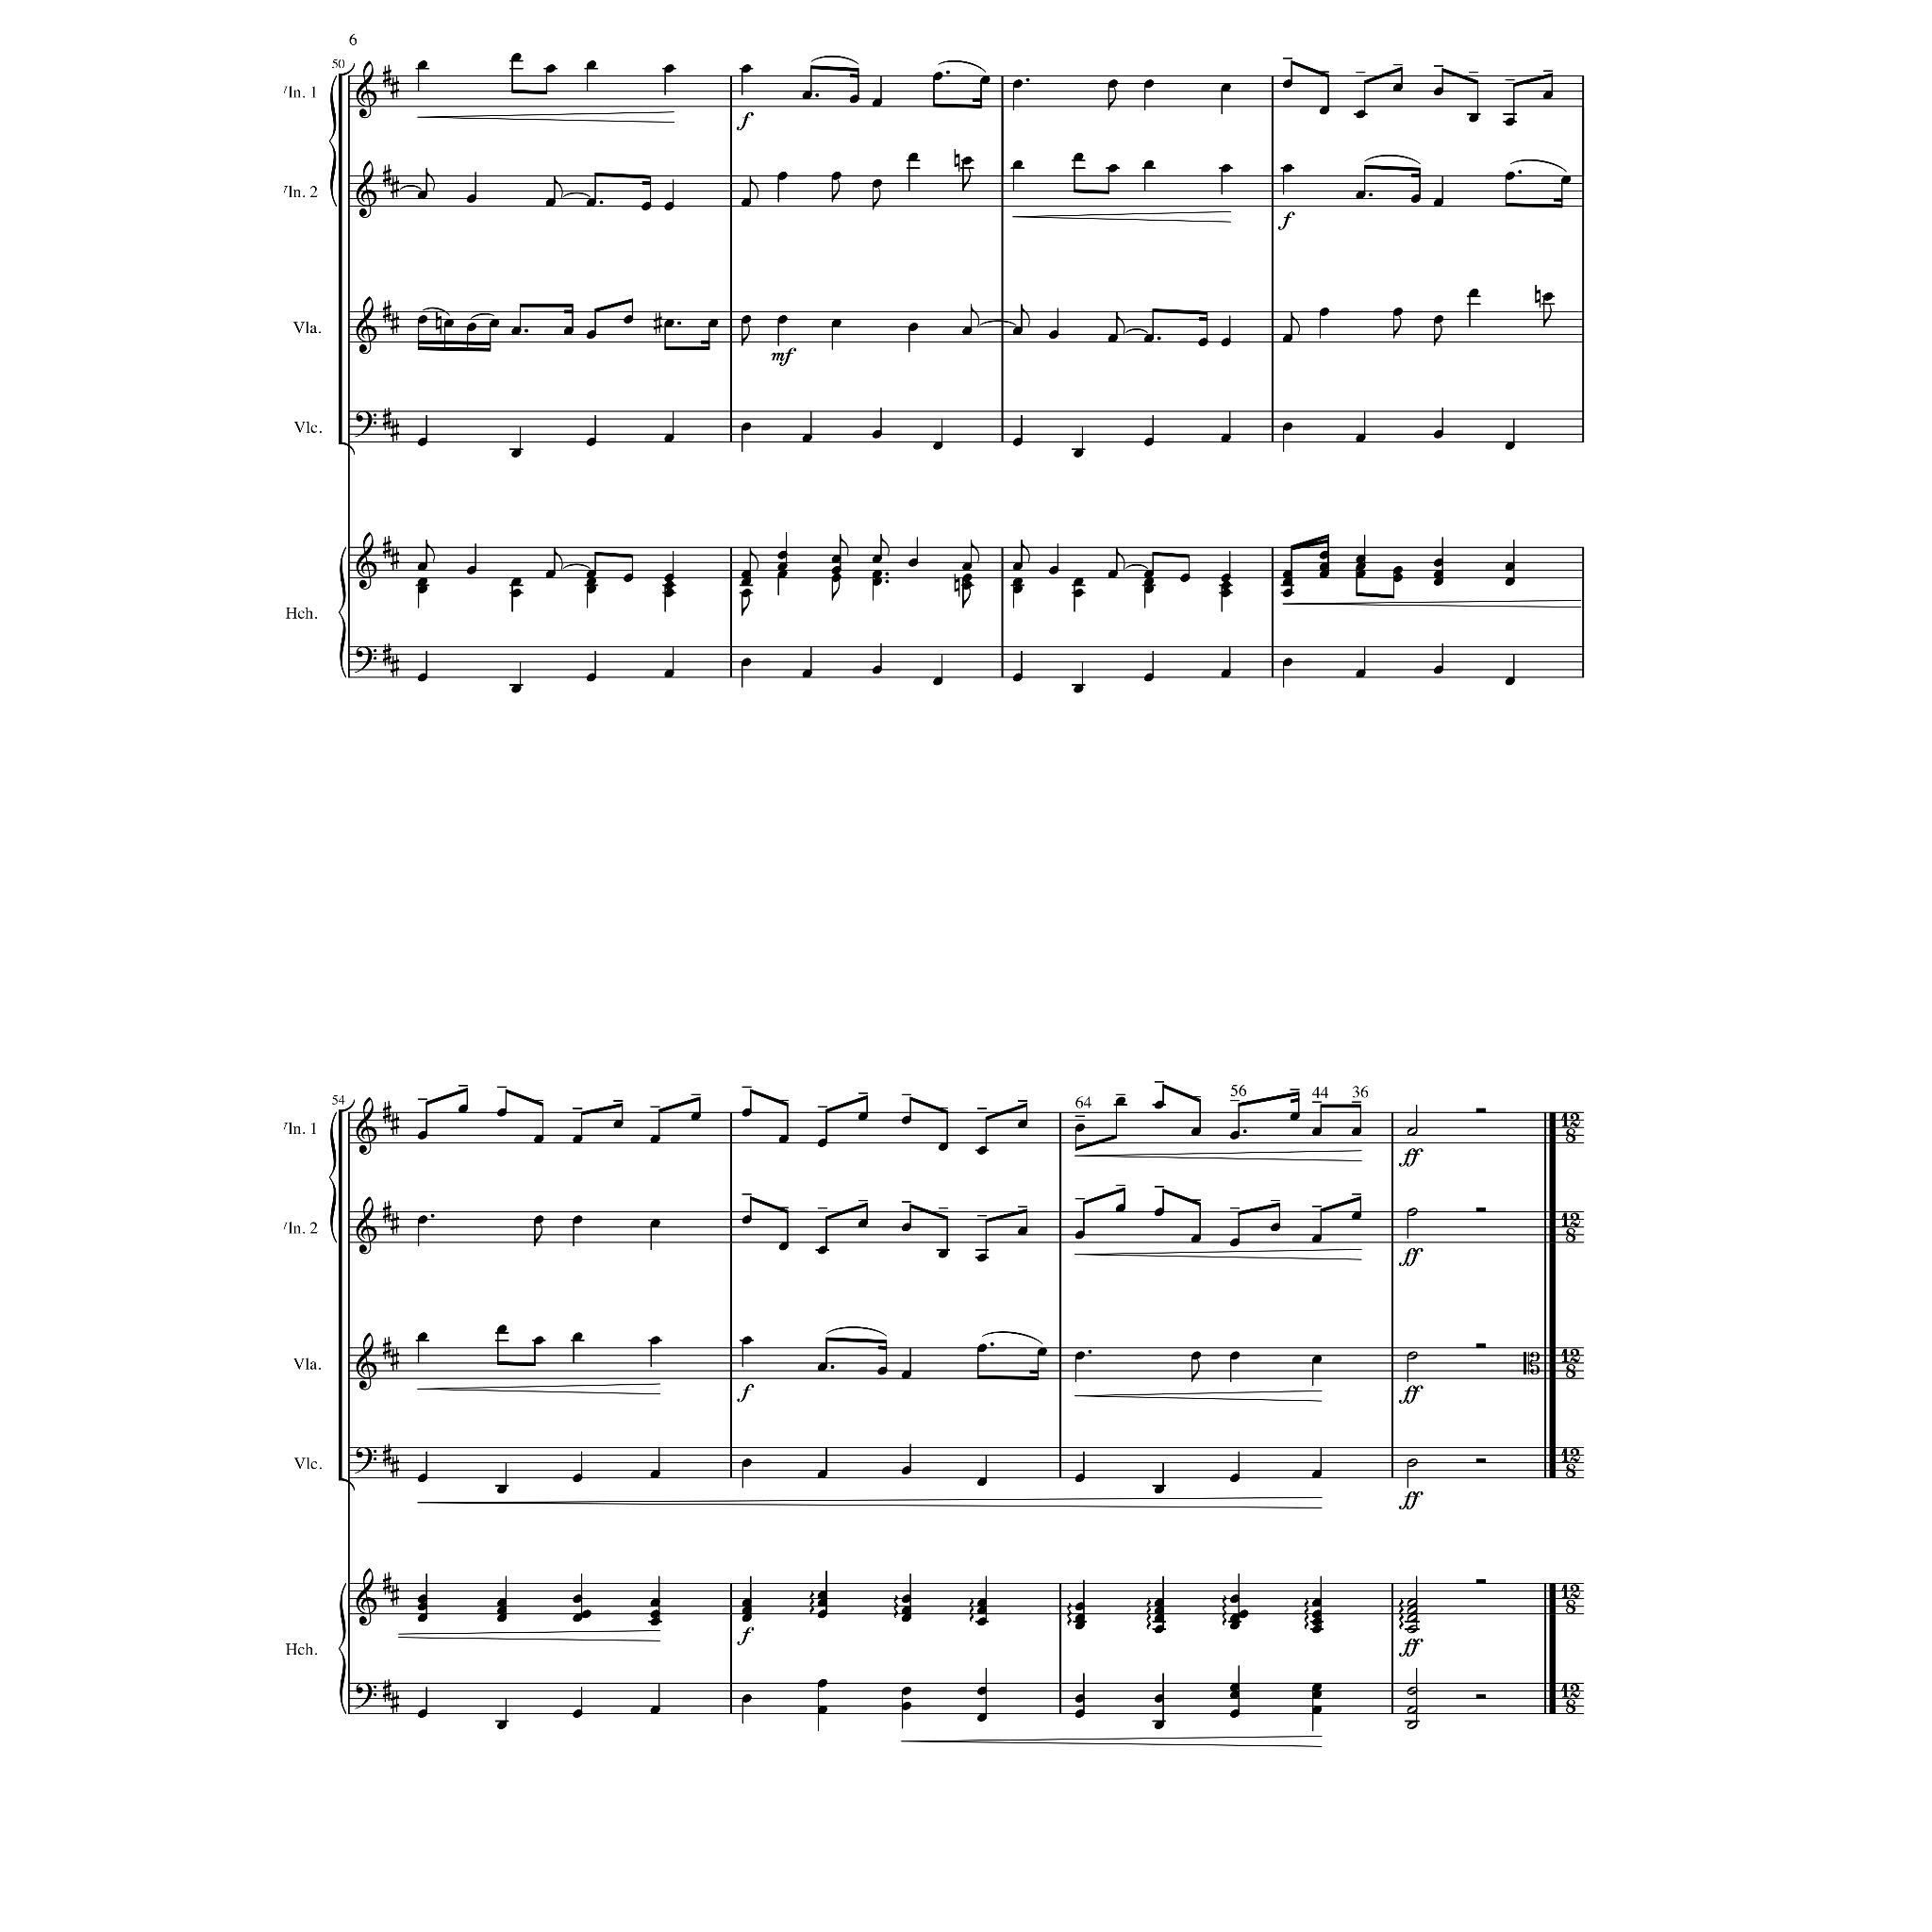brace: (338, 546, 345, 678), (328, 75, 336, 208), (328, 1111, 336, 1243), (338, 1583, 345, 1715)
fClef: (354, 646, 376, 673), (354, 411, 376, 438), (354, 1447, 376, 1474), (354, 1683, 376, 1709)
flag8thDown: (1108, 88, 1117, 110), (1544, 304, 1552, 326), (1435, 324, 1442, 346), (1393, 316, 1401, 339), (873, 188, 880, 210), (832, 179, 840, 202), (832, 577, 840, 600), (963, 168, 971, 191), (963, 586, 971, 608), (741, 324, 749, 346), (741, 593, 749, 616), (1192, 1359, 1200, 1382), (534, 1224, 541, 1246)
flag8thUp: (1291, 312, 1300, 335), (1021, 540, 1030, 562), (1021, 305, 1030, 327), (840, 534, 849, 557), (749, 547, 758, 570), (749, 176, 758, 199), (1117, 547, 1124, 570), (1117, 312, 1124, 335), (555, 547, 562, 570), (555, 176, 562, 199), (426, 540, 434, 562), (426, 168, 434, 191), (881, 534, 889, 557), (972, 540, 979, 562), (972, 305, 979, 327)
gClef: (356, 532, 376, 591), (356, 296, 376, 355), (356, 160, 376, 219), (356, 60, 376, 119), (356, 1568, 376, 1626), (356, 1196, 376, 1255), (356, 1332, 376, 1391), (356, 1097, 376, 1156)
noteheadBlack: (1179, 574, 1191, 583), (1468, 113, 1479, 123), (1355, 561, 1366, 571), (1355, 191, 1366, 200), (1355, 109, 1366, 119), (1355, 555, 1366, 564), (1355, 669, 1366, 678), (1319, 561, 1330, 571), (1319, 308, 1330, 317), (1319, 106, 1330, 115), (1392, 83, 1404, 92), (1392, 566, 1404, 575), (1392, 574, 1404, 583), (1392, 308, 1404, 317), (585, 60, 596, 70), (585, 577, 596, 587), (585, 585, 596, 594), (585, 437, 596, 446), (585, 330, 596, 340), (585, 198, 596, 208), (562, 326, 574, 336), (908, 152, 919, 161), (830, 574, 841, 583), (830, 555, 841, 564), (830, 566, 841, 575), (830, 319, 841, 328), (830, 172, 841, 181), (908, 323, 919, 332), (979, 75, 991, 85), (932, 72, 943, 81), (708, 319, 719, 328), (1191, 1234, 1202, 1243), (1191, 1126, 1202, 1136), (1191, 1351, 1202, 1360), (1270, 1223, 1281, 1232), (1238, 1609, 1249, 1619), (1017, 1119, 1028, 1128), (1017, 1226, 1028, 1236), (1036, 1347, 1047, 1357), (1115, 1096, 1126, 1106), (1115, 1204, 1126, 1213), (1351, 1126, 1362, 1136), (1351, 1211, 1362, 1221), (1311, 1126, 1323, 1136), (1311, 1234, 1323, 1243), (1311, 1355, 1323, 1364), (1311, 1470, 1323, 1479), (1311, 1624, 1323, 1634), (1311, 1617, 1323, 1626), (1311, 1609, 1323, 1619), (1311, 1598, 1323, 1607), (1311, 1690, 1323, 1700), (572, 1134, 583, 1143), (572, 1215, 583, 1224), (572, 1332, 583, 1341), (572, 1474, 583, 1483), (572, 1613, 583, 1623), (572, 1594, 583, 1604), (572, 1709, 583, 1719), (649, 1336, 660, 1345), (649, 1134, 660, 1143), (649, 1219, 660, 1228), (649, 1470, 660, 1479), (649, 1617, 660, 1626), (649, 1609, 660, 1619), (649, 1598, 660, 1607), (457, 1104, 468, 1113), (777, 1134, 789, 1143), (777, 1241, 789, 1251), (1221, 83, 1230, 92), (1221, 338, 1230, 347), (1221, 574, 1230, 583), (1221, 669, 1230, 678), (1221, 589, 1230, 598), (1221, 581, 1230, 591), (1198, 338, 1207, 347), (1013, 326, 1023, 336), (1283, 79, 1292, 89), (1283, 334, 1292, 343), (1283, 577, 1292, 587), (1283, 589, 1292, 598), (1049, 566, 1058, 575), (1049, 330, 1058, 340), (1013, 577, 1023, 587), (1013, 585, 1023, 594), (1013, 561, 1023, 571), (1013, 437, 1023, 446), (1144, 577, 1154, 587), (1144, 585, 1154, 594), (1144, 437, 1154, 446), (1144, 334, 1154, 343), (1144, 79, 1154, 89), (1074, 589, 1083, 598), (1074, 577, 1083, 587), (1074, 449, 1083, 458), (1074, 152, 1083, 161), (1108, 334, 1117, 343), (1108, 79, 1117, 89), (1543, 91, 1553, 100), (1506, 561, 1515, 571), (1506, 577, 1515, 587), (1506, 172, 1515, 181), (1506, 117, 1515, 126), (1434, 577, 1443, 587), (1434, 315, 1443, 325), (1434, 198, 1443, 208), (1434, 87, 1443, 96), (1411, 194, 1421, 204), (545, 198, 555, 208), (545, 64, 555, 74), (664, 669, 674, 678), (664, 581, 674, 591), (664, 589, 674, 598), (664, 574, 674, 583), (664, 319, 674, 328), (624, 574, 633, 583), (624, 315, 633, 325), (664, 202, 674, 211), (664, 64, 674, 74), (641, 202, 651, 211), (417, 191, 426, 200), (417, 577, 426, 587), (417, 585, 426, 594), (417, 561, 426, 571), (417, 437, 426, 446), (417, 315, 426, 325), (417, 60, 426, 70), (466, 566, 475, 575), (466, 323, 475, 332), (466, 194, 475, 204), (511, 326, 521, 336), (511, 577, 521, 587), (511, 589, 521, 598), (511, 449, 521, 458), (511, 53, 521, 62), (489, 319, 498, 328), (443, 319, 453, 328), (872, 577, 881, 587), (872, 555, 881, 564), (849, 94, 858, 104), (872, 179, 881, 189), (872, 98, 881, 108), (962, 574, 972, 583), (962, 581, 972, 591), (1013, 79, 1023, 89), (962, 561, 972, 571), (962, 326, 972, 336), (741, 577, 751, 587), (741, 315, 751, 325), (741, 198, 751, 208), (741, 64, 751, 74), (741, 589, 751, 598), (802, 669, 811, 678), (802, 91, 811, 100), (777, 172, 787, 181), (777, 315, 787, 325), (777, 561, 787, 571), (1155, 1721, 1164, 1730), (1291, 1111, 1300, 1121), (1230, 1238, 1240, 1247), (1230, 1351, 1240, 1360), (1230, 1474, 1240, 1483), (1230, 1621, 1240, 1630), (1230, 1613, 1240, 1623), (1230, 1594, 1240, 1604), (1230, 1709, 1240, 1719), (1230, 1690, 1240, 1700), (1075, 1474, 1085, 1483), (1075, 1621, 1085, 1630), (1075, 1613, 1085, 1623), (1075, 1602, 1085, 1611), (1075, 1709, 1085, 1719), (1075, 1351, 1085, 1360), (1075, 1123, 1085, 1132), (1075, 1230, 1085, 1240), (1155, 1100, 1164, 1109), (1155, 1207, 1164, 1217), (1155, 1485, 1164, 1494), (1155, 1624, 1164, 1634), (1155, 1613, 1164, 1623), (1155, 1606, 1164, 1615), (1155, 1598, 1164, 1607), (581, 1609, 591, 1619), (534, 1336, 543, 1345), (534, 1134, 543, 1143), (534, 1215, 543, 1224), (691, 1111, 700, 1121), (741, 1108, 751, 1117), (741, 1215, 751, 1224), (741, 1336, 751, 1345), (741, 1458, 751, 1468), (613, 1119, 623, 1128), (417, 1215, 426, 1224), (496, 1485, 506, 1494), (496, 1108, 506, 1117), (496, 1324, 506, 1334), (496, 1613, 506, 1623), (496, 1606, 506, 1615), (496, 1598, 506, 1607), (496, 1721, 506, 1730), (417, 1332, 426, 1341), (417, 1474, 426, 1483), (417, 1613, 426, 1623), (417, 1602, 426, 1611), (417, 1594, 426, 1604), (417, 1709, 426, 1719), (902, 1223, 911, 1232), (902, 1370, 911, 1379), (902, 1466, 911, 1475), (902, 1613, 911, 1623), (902, 1606, 911, 1615), (902, 1594, 911, 1604), (902, 1702, 911, 1711), (902, 1115, 911, 1124), (741, 1613, 751, 1623), (858, 1111, 868, 1121), (858, 1219, 868, 1228), (877, 1366, 887, 1375), (977, 1606, 987, 1615), (977, 1598, 987, 1607), (977, 1713, 987, 1723), (977, 1617, 987, 1626), (938, 1249, 947, 1258), (977, 1146, 987, 1156), (977, 1253, 987, 1262), (977, 1343, 987, 1353), (977, 1477, 987, 1487), (817, 1678, 826, 1688), (741, 1598, 751, 1607), (741, 1606, 751, 1615), (817, 1591, 826, 1600), (817, 1245, 826, 1255), (817, 1362, 826, 1372), (817, 1470, 826, 1479), (817, 1609, 826, 1619), (817, 1598, 826, 1607), (1560, 175, 1572, 183), (1468, 289, 1479, 296), (1355, 434, 1366, 441), (1355, 570, 1366, 577), (1319, 551, 1330, 558), (1319, 570, 1330, 577), (585, 674, 596, 681), (585, 570, 596, 577), (932, 677, 943, 685), (932, 441, 943, 449), (908, 558, 919, 566), (1311, 1706, 1323, 1713), (1311, 1683, 1323, 1690), (649, 1706, 660, 1713), (1221, 164, 1230, 172), (1221, 434, 1230, 441), (1283, 164, 1292, 172), (1283, 423, 1292, 430), (1283, 570, 1292, 577), (1283, 658, 1292, 666), (1013, 674, 1023, 681), (1144, 674, 1154, 681), (1144, 570, 1154, 577), (1144, 160, 1154, 168), (1074, 685, 1083, 692), (1108, 570, 1117, 577), (1108, 164, 1117, 172), (1543, 292, 1553, 300), (1506, 677, 1515, 685), (1506, 441, 1515, 449), (1434, 666, 1443, 674), (1434, 558, 1443, 566), (1434, 570, 1443, 577), (1434, 430, 1443, 438), (545, 570, 555, 577), (664, 434, 674, 441), (1013, 160, 1023, 168), (417, 674, 426, 681), (511, 685, 521, 692), (872, 666, 881, 674), (872, 570, 881, 577), (872, 430, 881, 438), (962, 157, 972, 164), (741, 570, 751, 577), (741, 423, 751, 430), (741, 658, 751, 666), (802, 434, 811, 441), (777, 551, 787, 558), (777, 570, 787, 577), (1155, 1694, 1164, 1702), (1230, 1683, 1240, 1690), (1230, 1132, 1240, 1140), (1075, 1694, 1085, 1702), (417, 1132, 426, 1140), (902, 1687, 911, 1694), (977, 1687, 987, 1694), (938, 1143, 947, 1151), (817, 1706, 826, 1713), (741, 1694, 751, 1702), (817, 1140, 826, 1147)
noteheadHalf: (1407, 1606, 1418, 1615), (1407, 1126, 1418, 1136), (1407, 1207, 1418, 1217), (1407, 1351, 1418, 1360), (1407, 1458, 1418, 1468), (1407, 1624, 1418, 1634), (1407, 1613, 1418, 1623), (1407, 1598, 1418, 1607), (1407, 1721, 1418, 1730), (1407, 1706, 1418, 1713), (1407, 1687, 1418, 1694)
restHalf: (1475, 1108, 1487, 1113), (1475, 1207, 1487, 1213), (1475, 1343, 1487, 1349), (1475, 1579, 1487, 1585), (1475, 1458, 1487, 1462), (1475, 1694, 1487, 1698)
